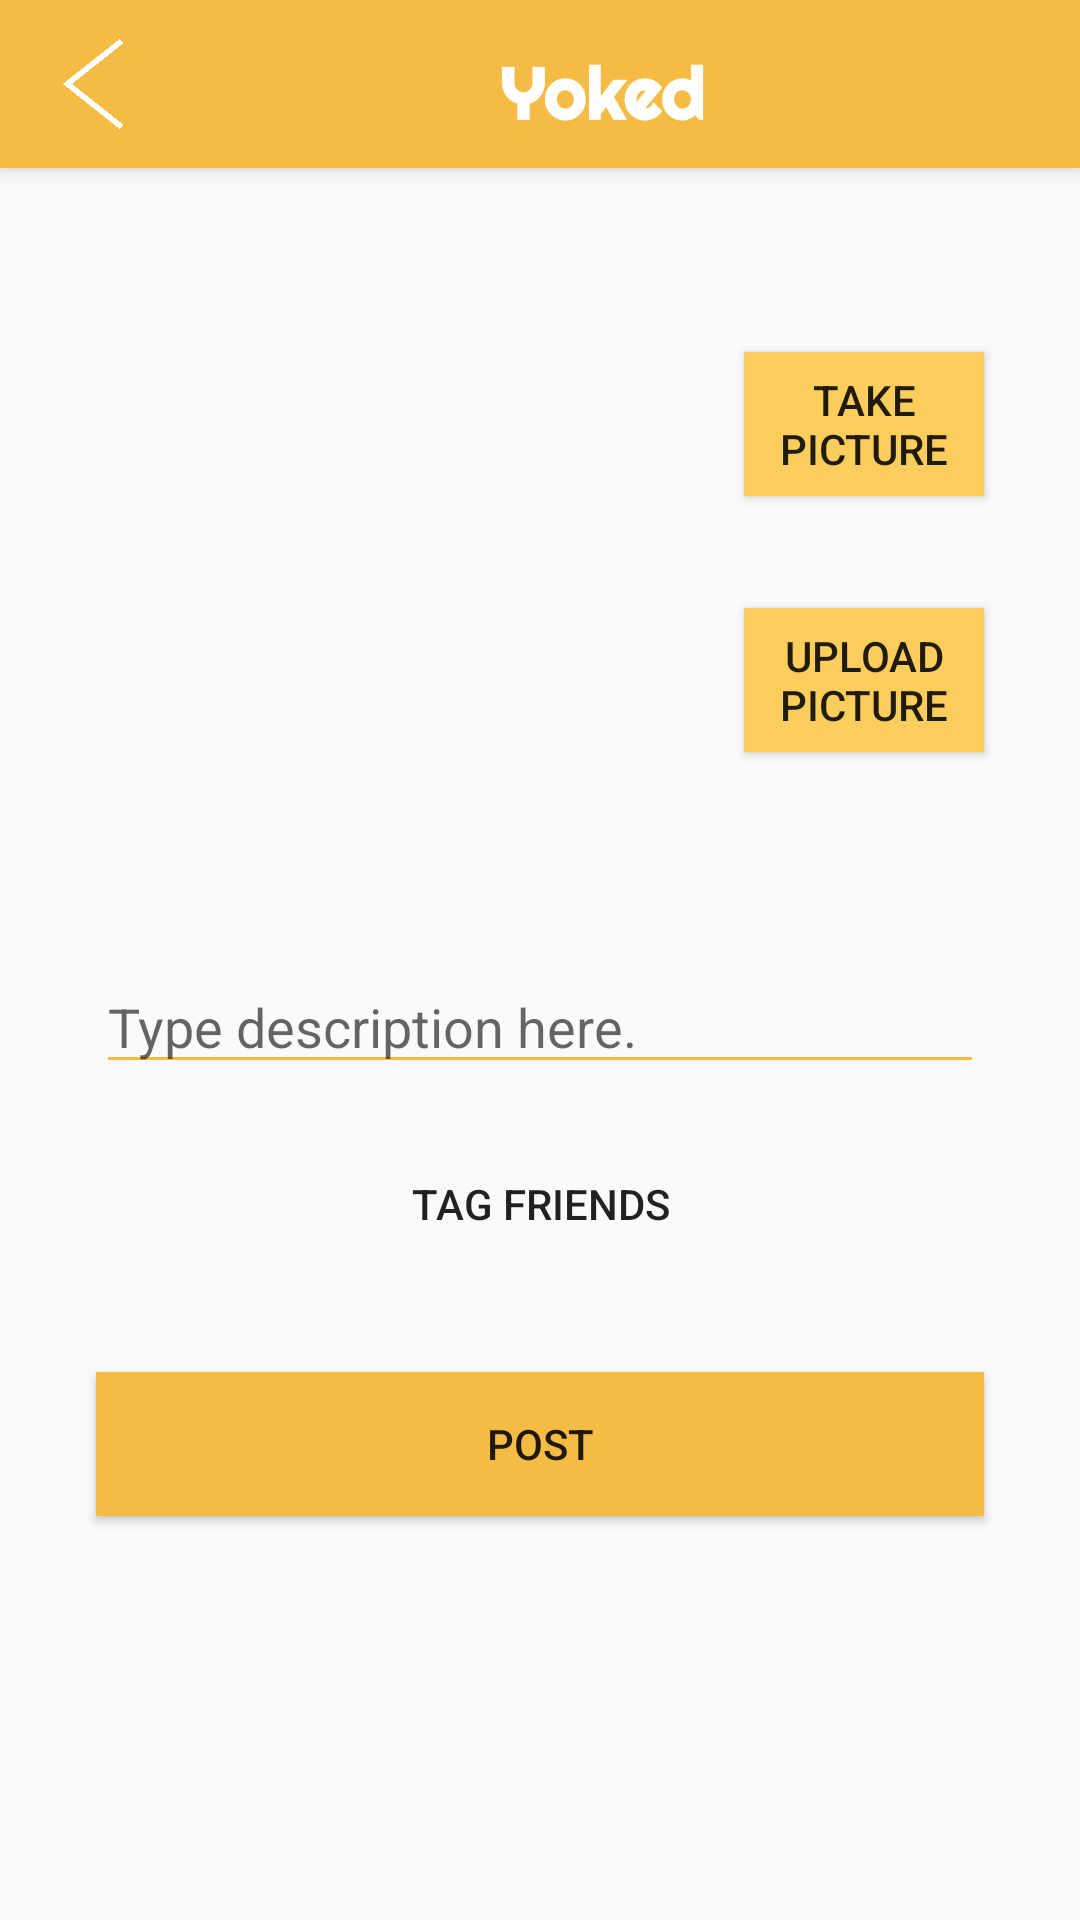

Icon bounding boxes for this 1080px×1920px phone screenshot, format BBox(x1, y1, x2, y2):
back: BBox(63, 39, 123, 129)
